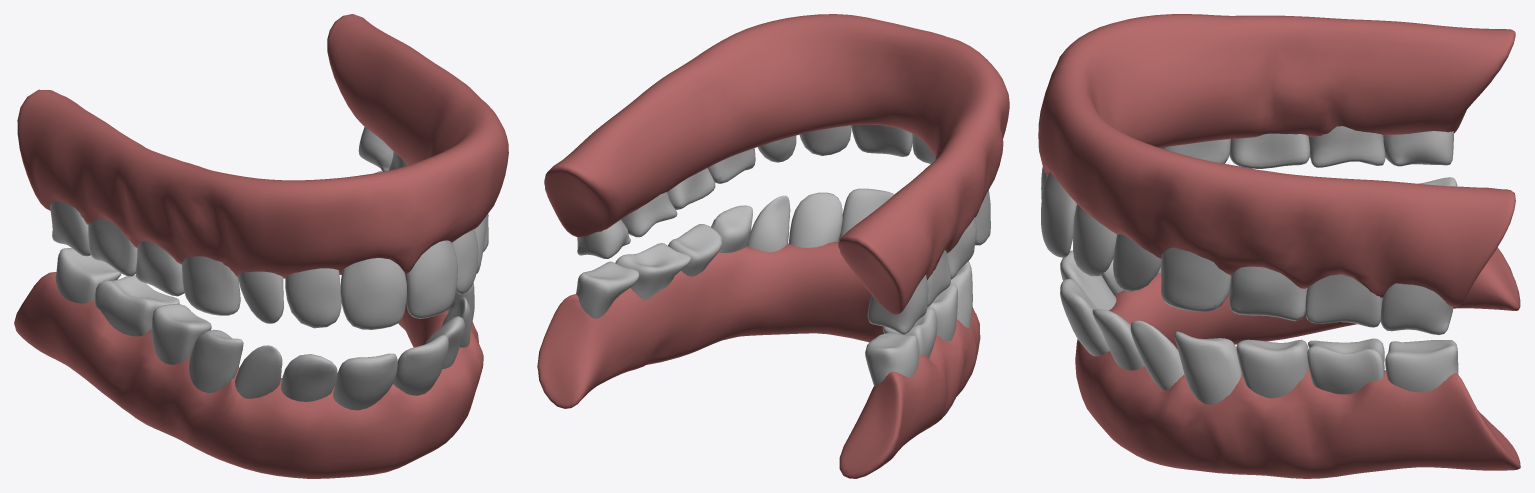
3 views of the same model, side by side, from view 1: azimuth 30°, elevation 25°; view 2: azimuth 150°, elevation 25°; view 3: azimuth 270°, elevation 25° (orthographic). The views are drawn at different scales.
Visible parts, largest first — view 1: Low_Teeth27, Low_Teeth25; view 2: Low_Teeth27, Low_Teeth25; view 3: Low_Teeth27, Low_Teeth25.
Part boxes in pixels (x1=…): Low_Teeth27: x1=14, y1=14, x2=508, y2=478; Low_Teeth25: x1=50, y1=127, x2=488, y2=410; Low_Teeth27: x1=537, y1=14, x2=1009, y2=478; Low_Teeth25: x1=576, y1=124, x2=990, y2=386; Low_Teeth27: x1=1038, y1=14, x2=1520, y2=478; Low_Teeth25: x1=1041, y1=126, x2=1458, y2=404.
Size of the model in its own units: 0.9359 by 0.7521 by 0.962.
